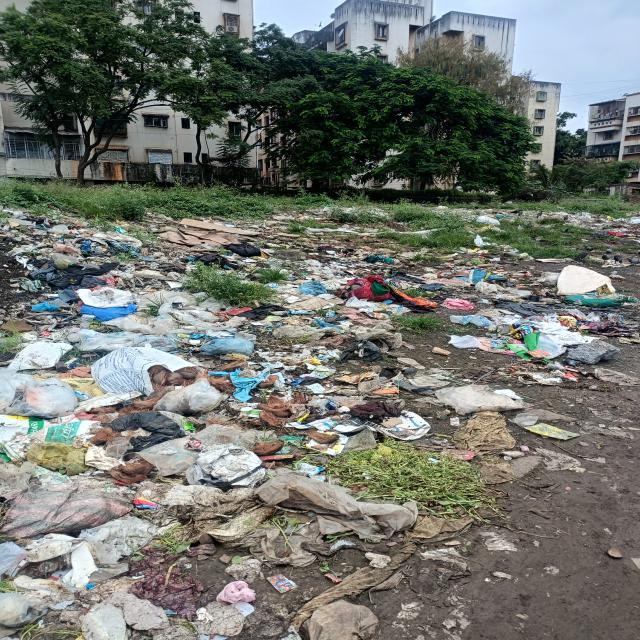garbage: (2, 211, 640, 640)
